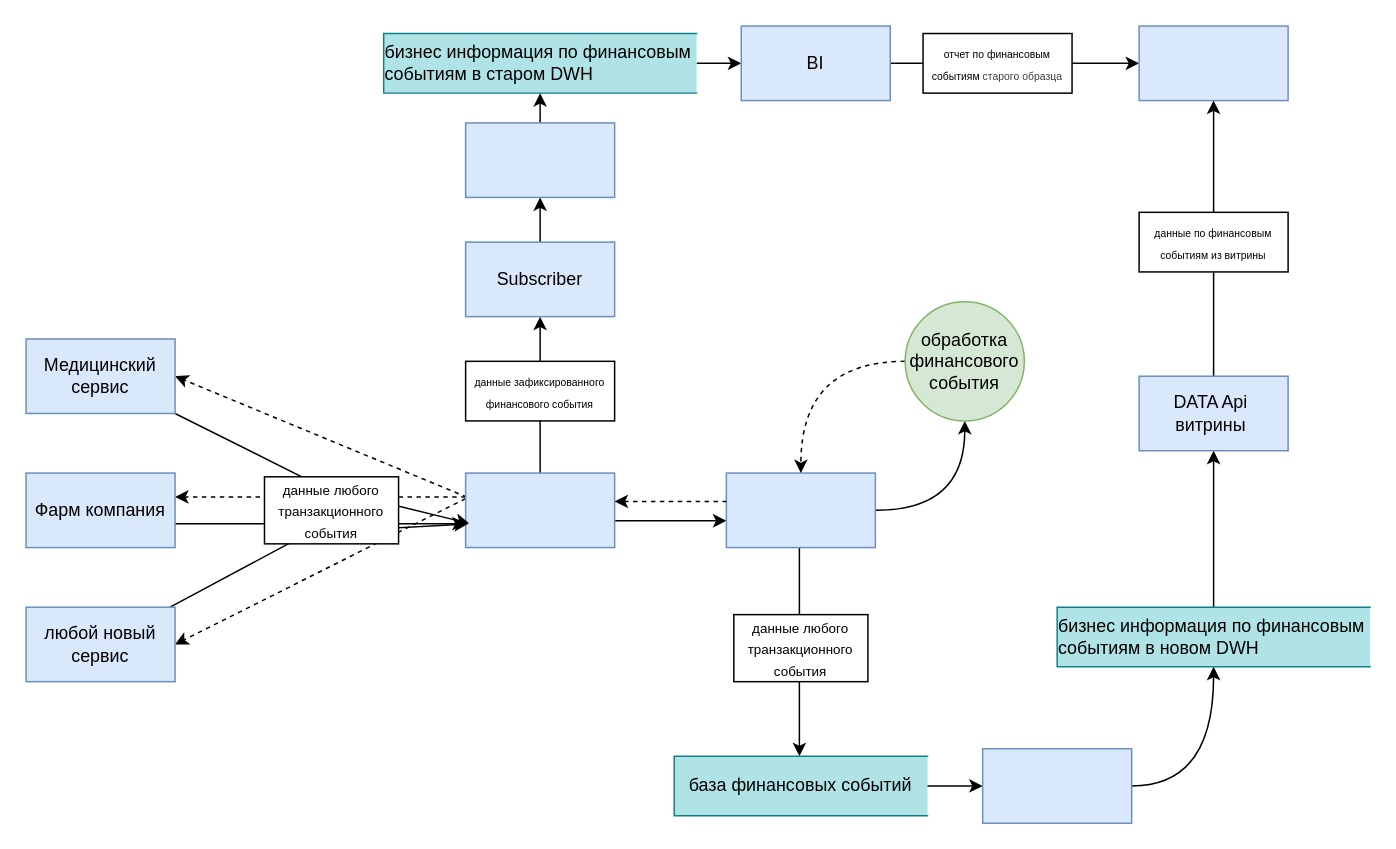
The diagram is 1396 pixels wide and 849 high, and some of its shapes have lost their labels. Each missing label, with the box of its shape:
ETL: (981, 747, 1132, 823)
Аналитик: (1138, 25, 1288, 101)
Брокер сообщений: (464, 472, 615, 548)
финтех сервис: (725, 472, 875, 548)
Шина: (464, 121, 615, 197)
